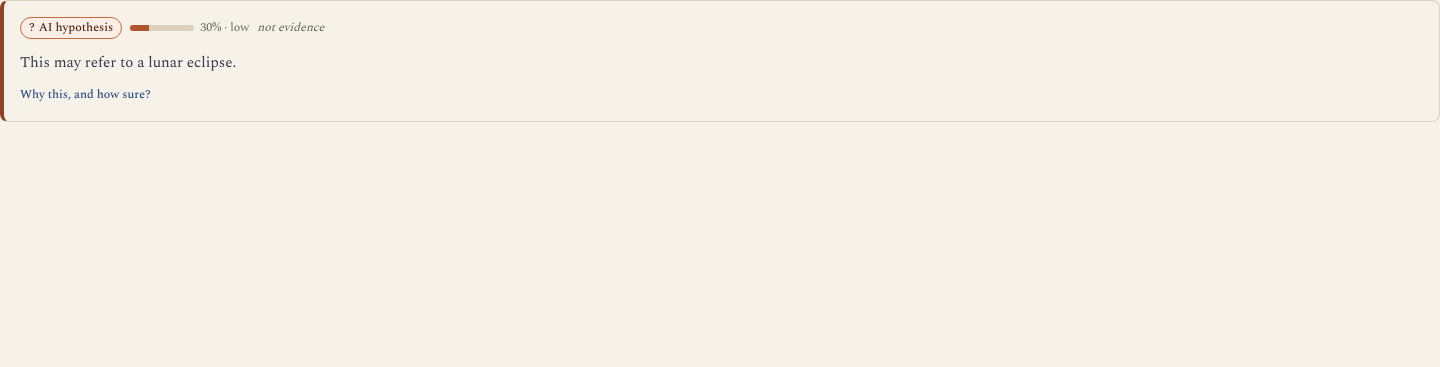
Test case: ClaimCard › flags a model-supplied citation as unverified
The image size is (1440, 367).
Click the button "Why this, and how sure?".
click(85, 95)  # box [20,87,151,103]
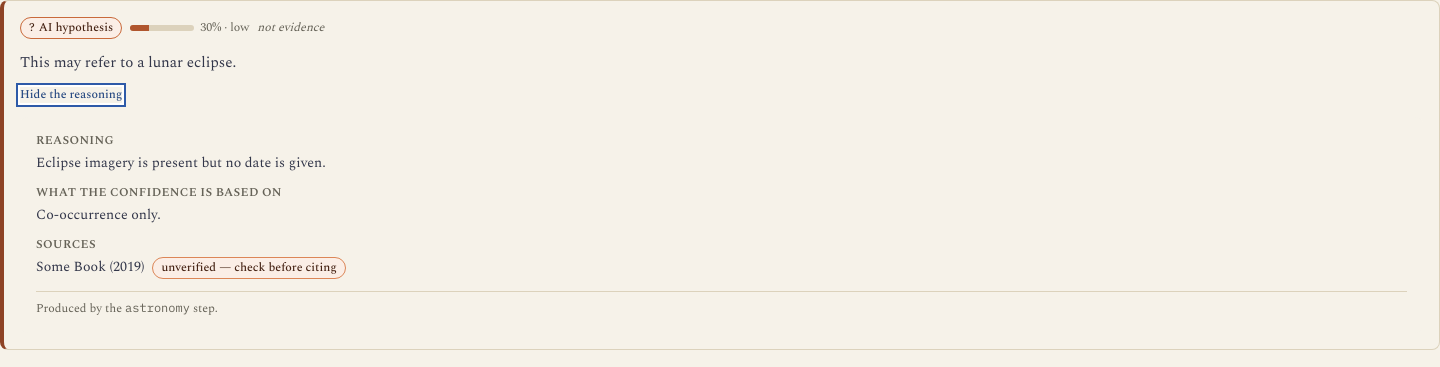
Expected: the text "unverified — check before citing" is shown, [152,257,346,279]
